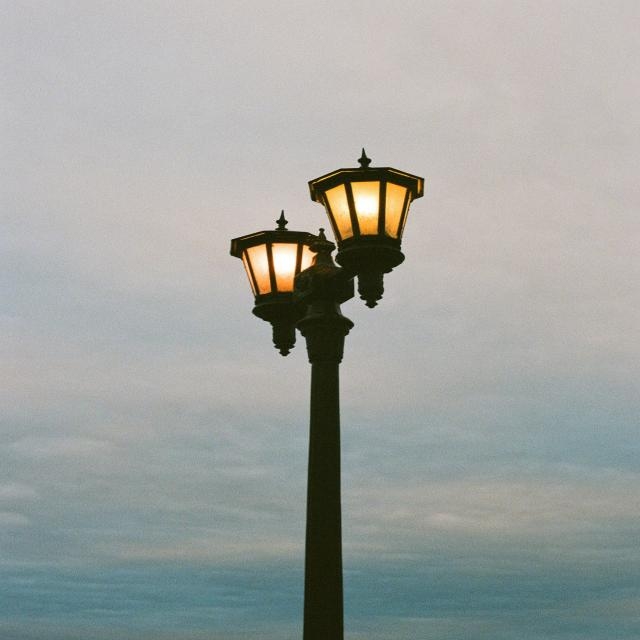Street Light: (228, 148, 426, 634)
